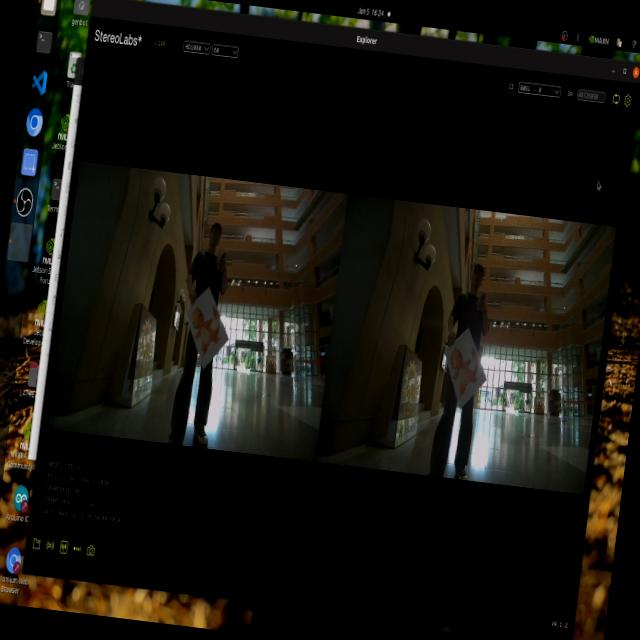red: (438, 326, 487, 409), (185, 297, 228, 361)
